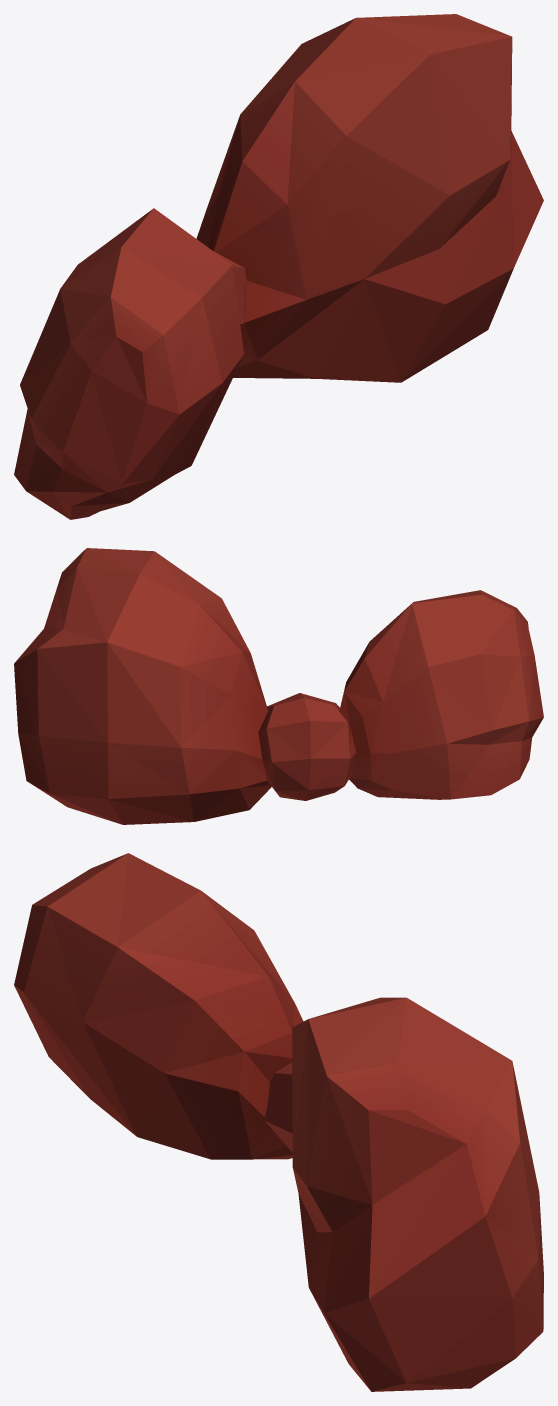
The model's file is CharSkyKid_Hat_AP26RedBow.glb.
3 views of the same model, one above another, from view 1: azimuth 30°, elevation 25°; view 2: azimuth 150°, elevation 25°; view 3: azimuth 270°, elevation 25° (orthographic). The views are drawn at different scales.
Parts seen in each view (by area): view 1: CharSkyKid_Hat_AP26RedBow; view 2: CharSkyKid_Hat_AP26RedBow; view 3: CharSkyKid_Hat_AP26RedBow.
Part boxes in pixels (x1,y1,x2,y2): CharSkyKid_Hat_AP26RedBow: [14, 14, 543, 519]; CharSkyKid_Hat_AP26RedBow: [14, 548, 543, 824]; CharSkyKid_Hat_AP26RedBow: [14, 853, 543, 1391].
Bounding box in the file's own units: 2.98 × 1.6 × 2.15.
1 material, 1 textured.
